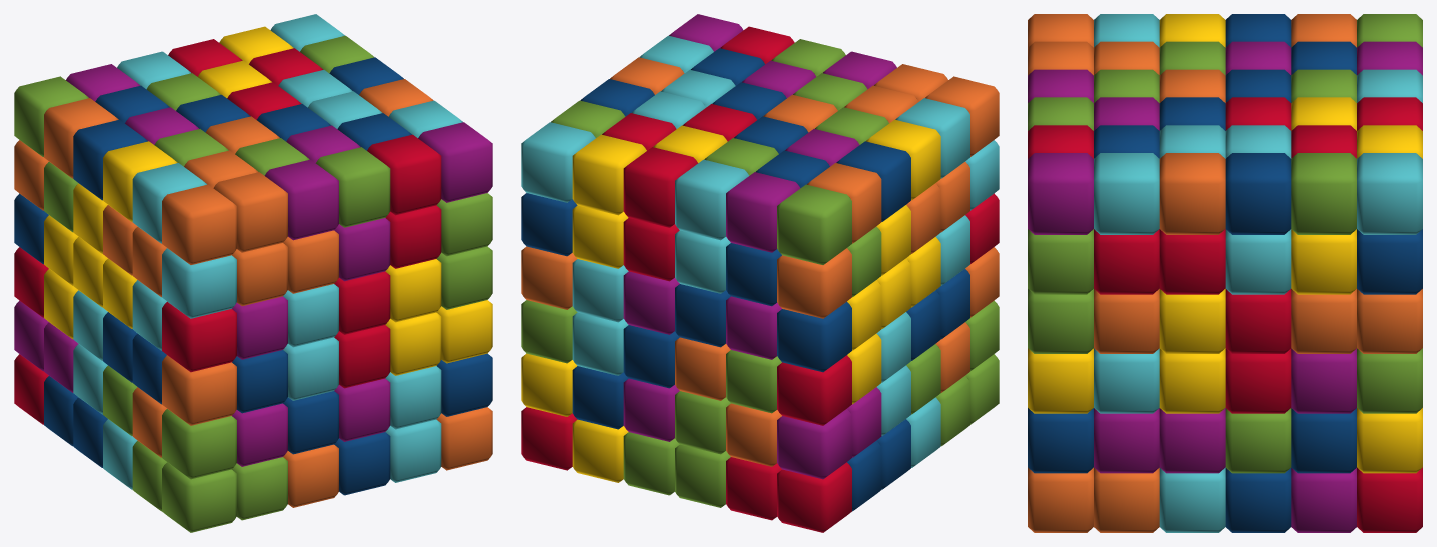
File: PRP_Cubes.FBX
3 renders of one model, left to right at view 1: azimuth 30°, elevation 25°; view 2: azimuth 150°, elevation 25°; view 3: azimuth 270°, elevation 25°, orthographic. The views are drawn at different scales.
Parts seen in each view (by area): view 1: PRP_Cubes_07, PRP_Cubes_28, PRP_Cubes_22, PRP_Cubes_157, PRP_Cubes_10, PRP_Cubes_86, PRP_Cubes_16, PRP_Cubes_20, PRP_Cubes_31, PRP_Cubes_19, PRP_Cubes_11, PRP_Cubes_06 (+54 smaller); view 2: PRP_Cubes_205, PRP_Cubes_157, PRP_Cubes_203, PRP_Cubes_183, PRP_Cubes_184, PRP_Cubes_182, PRP_Cubes_07, PRP_Cubes_198, PRP_Cubes_196, PRP_Cubes_174, PRP_Cubes_28, PRP_Cubes_186 (+58 smaller); view 3: PRP_Cubes_91, PRP_Cubes_127, PRP_Cubes_62, PRP_Cubes_191, PRP_Cubes_32, PRP_Cubes_79, PRP_Cubes_16, PRP_Cubes_07, PRP_Cubes_73, PRP_Cubes_109, PRP_Cubes_38, PRP_Cubes_144 (+44 smaller).
Part boxes in pixels (bbox=[...]): PRP_Cubes_07: bbox=[162, 150, 338, 306]; PRP_Cubes_28: bbox=[132, 409, 287, 532]; PRP_Cubes_22: bbox=[385, 259, 492, 375]; PRP_Cubes_157: bbox=[44, 183, 136, 339]; PRP_Cubes_10: bbox=[367, 134, 441, 268]; PRP_Cubes_86: bbox=[103, 312, 287, 413]; PRP_Cubes_16: bbox=[436, 193, 492, 309]; PRP_Cubes_20: bbox=[334, 271, 390, 388]; PRP_Cubes_31: bbox=[385, 366, 441, 482]; PRP_Cubes_19: bbox=[283, 284, 338, 400]; PRP_Cubes_11: bbox=[162, 301, 236, 372]; PRP_Cubes_06: bbox=[162, 248, 236, 318]; PRP_Cubes_205: bbox=[623, 391, 730, 507]; PRP_Cubes_157: bbox=[847, 205, 940, 404]; PRP_Cubes_203: bbox=[726, 457, 851, 532]; PRP_Cubes_183: bbox=[623, 147, 698, 281]; PRP_Cubes_184: bbox=[572, 134, 646, 268]; PRP_Cubes_182: bbox=[675, 159, 749, 293]; PRP_Cubes_07: bbox=[844, 64, 999, 156]; PRP_Cubes_198: bbox=[777, 387, 881, 479]; PRP_Cubes_196: bbox=[572, 259, 628, 375]; PRP_Cubes_174: bbox=[777, 184, 851, 264]; PRP_Cubes_28: bbox=[935, 300, 999, 446]; PRP_Cubes_186: bbox=[777, 301, 851, 372]; PRP_Cubes_91: bbox=[1159, 289, 1225, 413]; PRP_Cubes_127: bbox=[1225, 289, 1291, 413]; PRP_Cubes_62: bbox=[1094, 408, 1225, 473]; PRP_Cubes_191: bbox=[1291, 289, 1422, 353]; PRP_Cubes_32: bbox=[1028, 467, 1159, 532]; PRP_Cubes_79: bbox=[1094, 229, 1225, 294]; PRP_Cubes_16: bbox=[1028, 229, 1093, 353]; PRP_Cubes_07: bbox=[1028, 14, 1159, 75]; PRP_Cubes_73: bbox=[1159, 153, 1225, 234]; PRP_Cubes_109: bbox=[1225, 153, 1291, 234]; PRP_Cubes_38: bbox=[1094, 153, 1159, 234]; PRP_Cubes_144: bbox=[1291, 153, 1356, 234].
Bounding box in the file's own units: 60 × 60 × 60.
